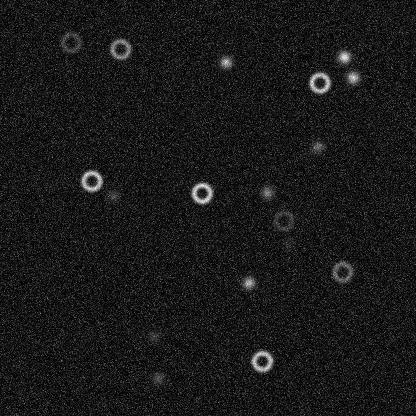Ring: (249, 349, 273, 373), (189, 181, 213, 205), (58, 30, 82, 54), (307, 70, 331, 94), (271, 208, 295, 232), (79, 168, 103, 192), (330, 259, 354, 283), (108, 36, 132, 60)
Spot: (217, 54, 233, 70), (105, 187, 121, 203), (145, 328, 161, 344), (336, 48, 352, 64), (280, 235, 296, 251), (149, 369, 165, 385), (309, 138, 325, 154), (344, 69, 360, 85), (240, 274, 256, 290), (259, 184, 275, 200)
